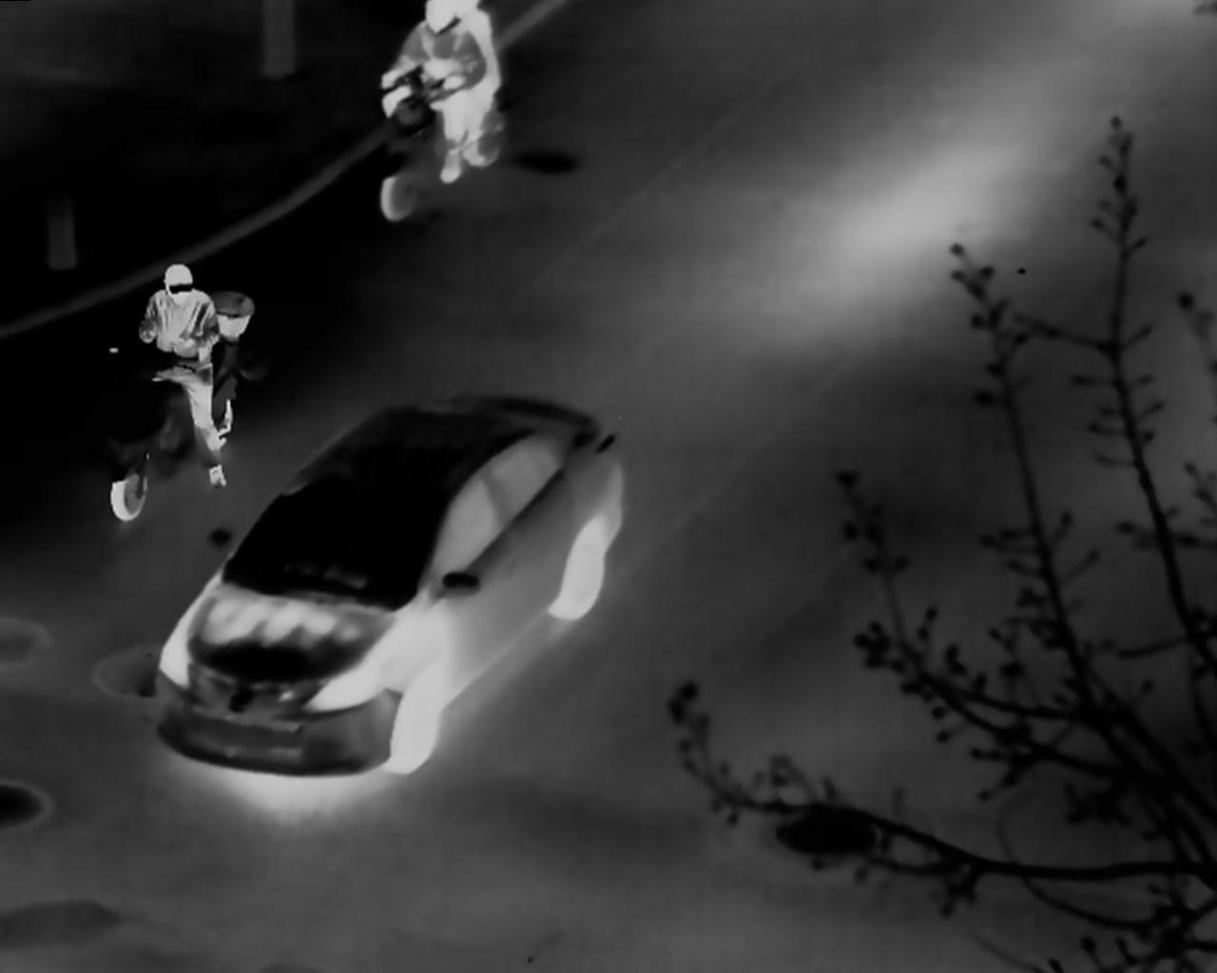person: (144, 256, 225, 459)
